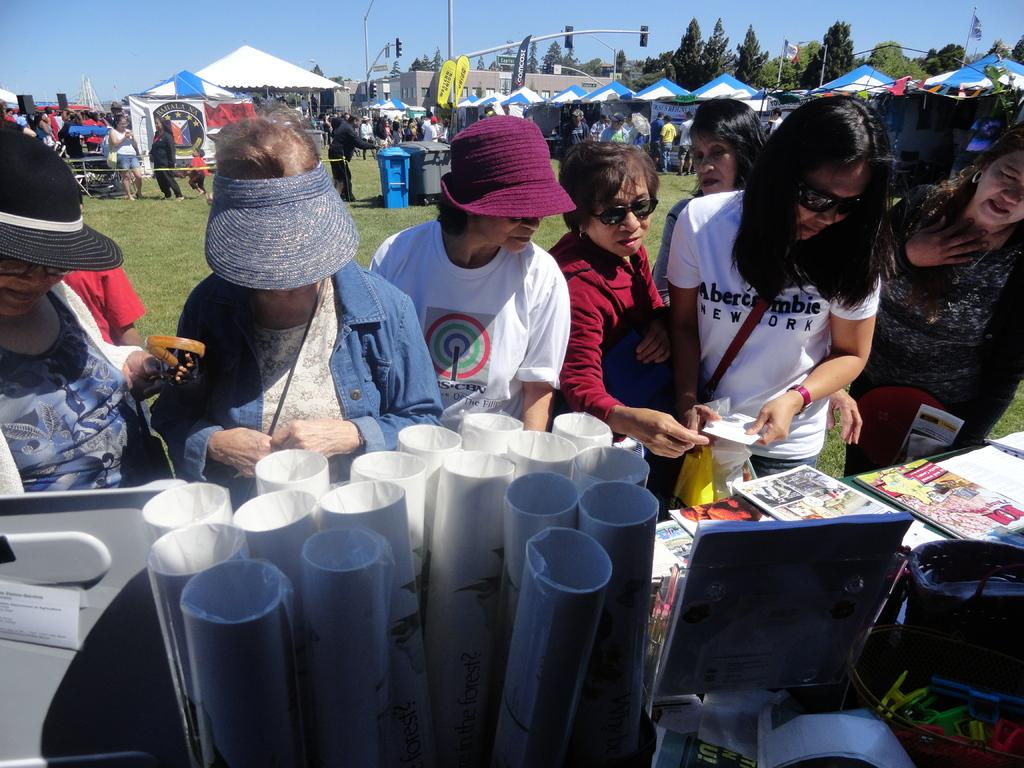Hat: (0, 129, 122, 272), (438, 116, 580, 214), (608, 113, 624, 121)
